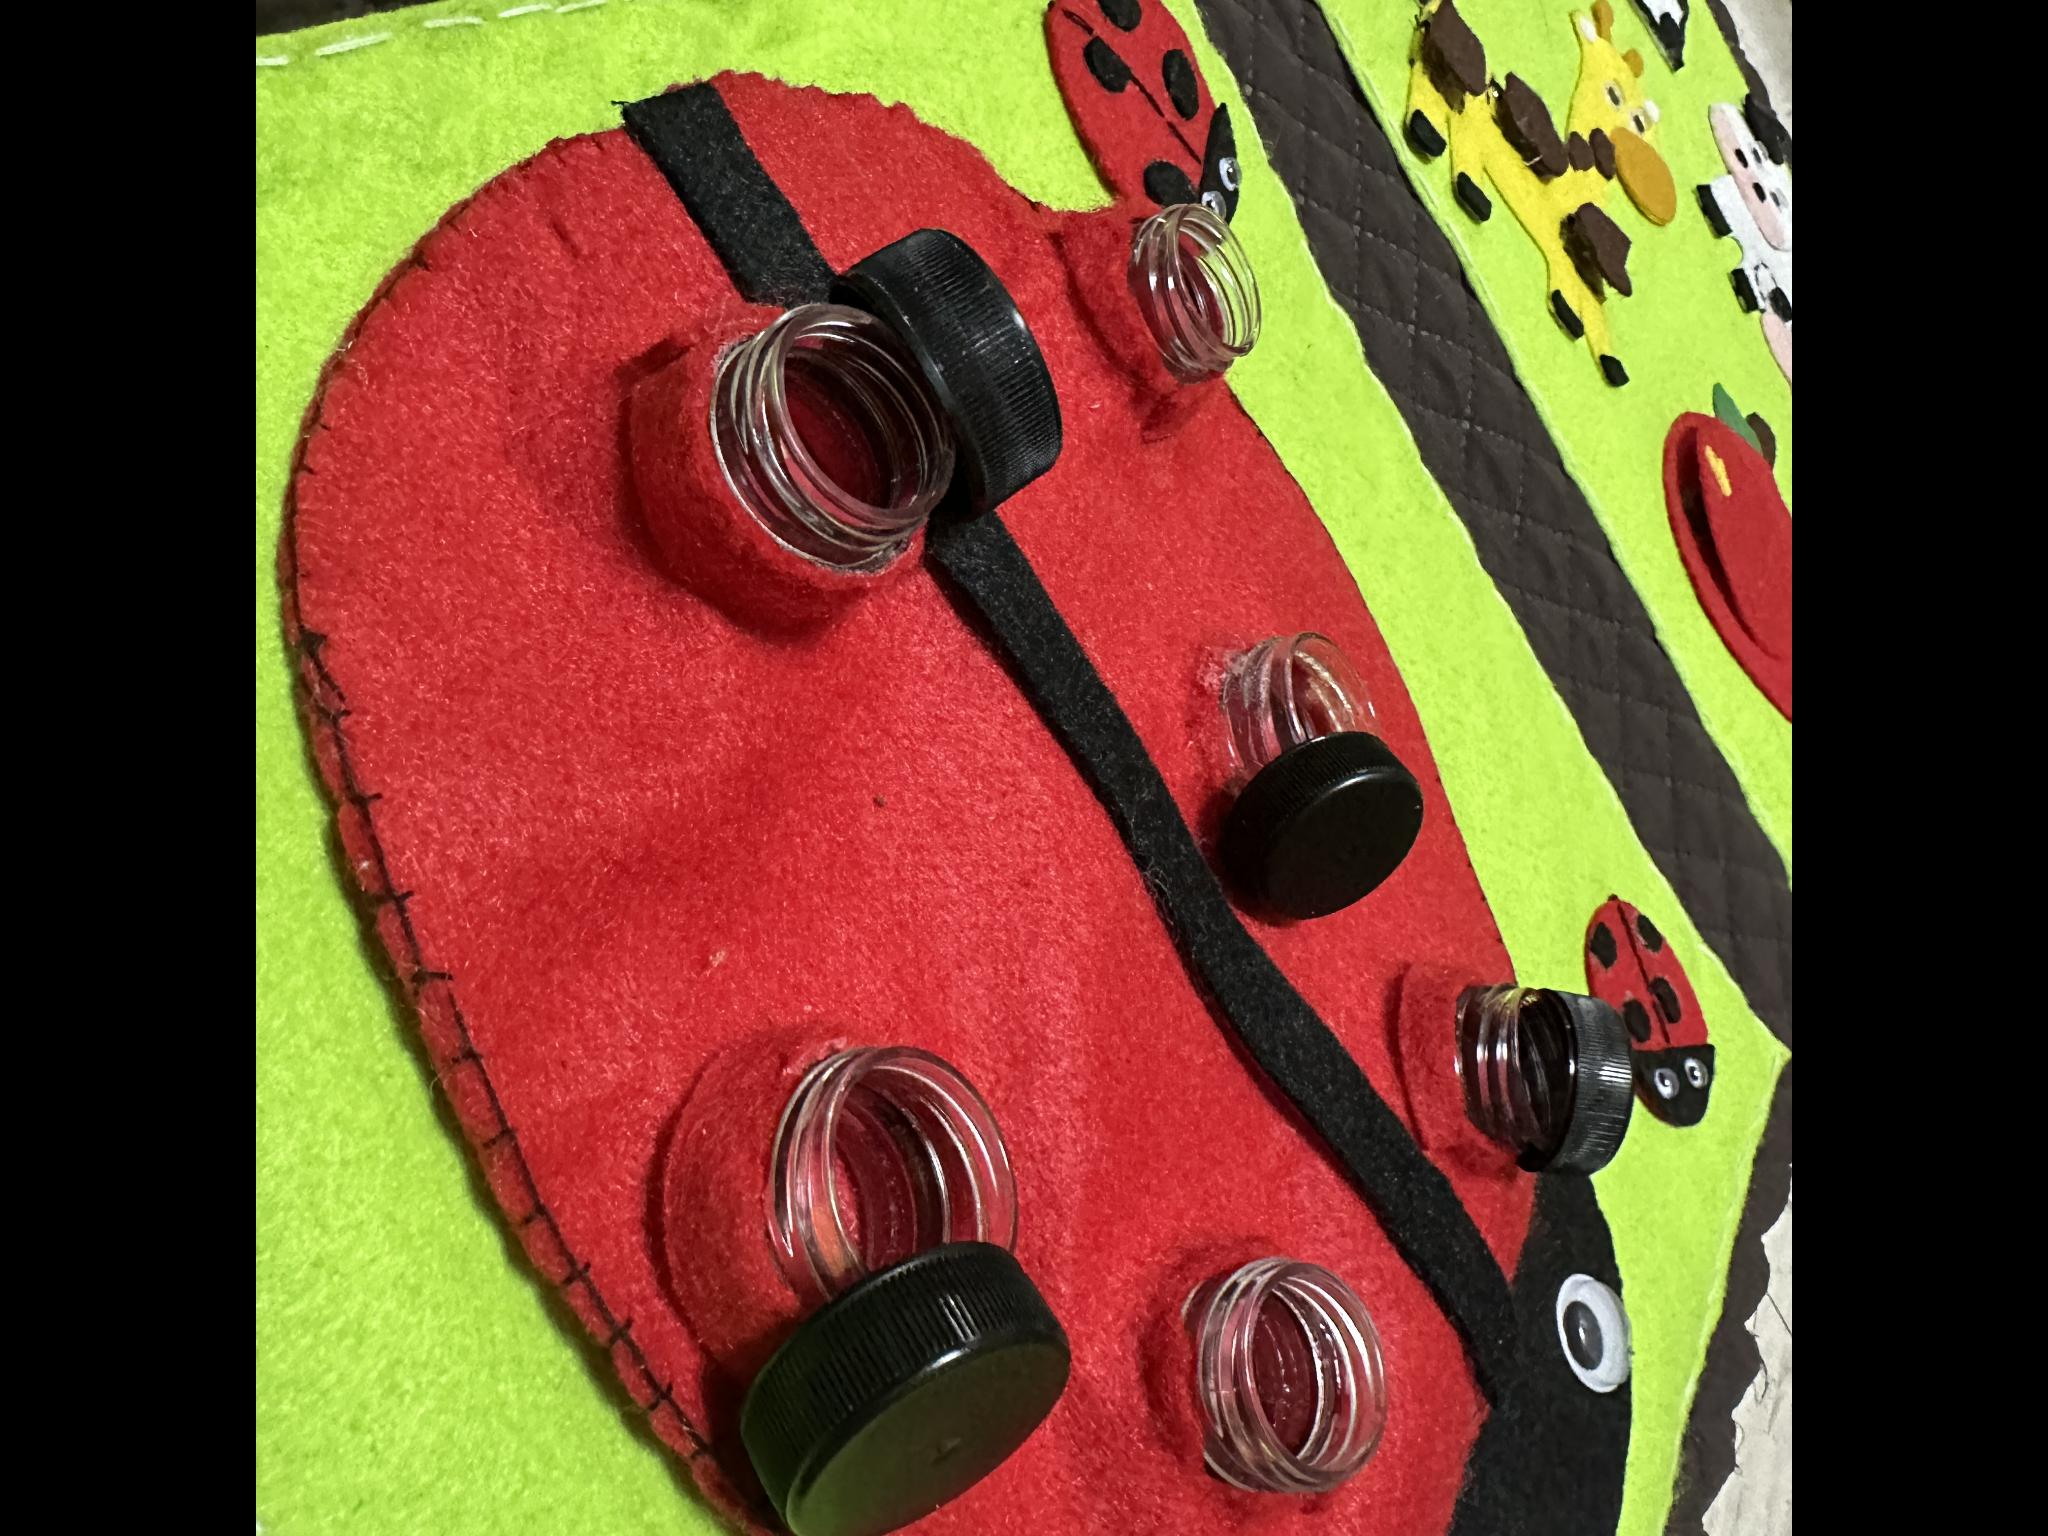cap_ng: (634, 986, 1097, 1536), (601, 211, 1077, 649), (1168, 589, 1458, 931), (1374, 952, 1656, 1192)
